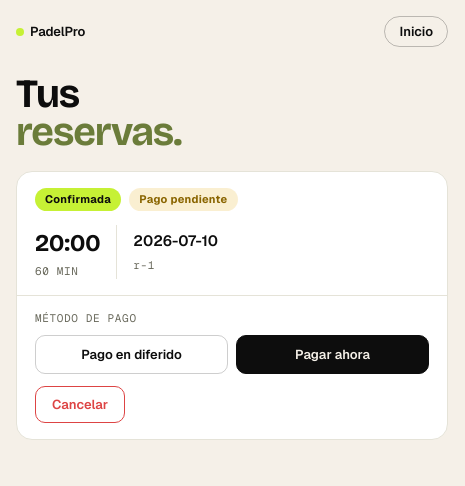
MisReservasPage — acciones (Grupo 5) › cancelar desde la lista (DELETE) refresca el estado a cancelada
Expected: the text "20:00" is shown, [35,224,100,260]
What coordinates should you click on to do the following:
click the button "Cancelar"
I would click on:
 (80, 404)
Its box is [35,386,125,422].
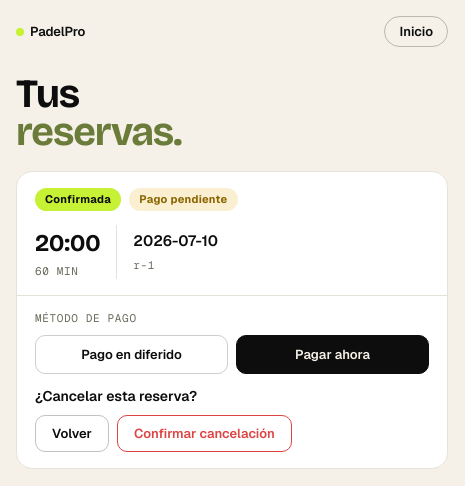
What coordinates should you click on to do the following:
click the button "Confirmar cancelación"
I would click on:
 (204, 433)
Its box is [117,414,292,452].
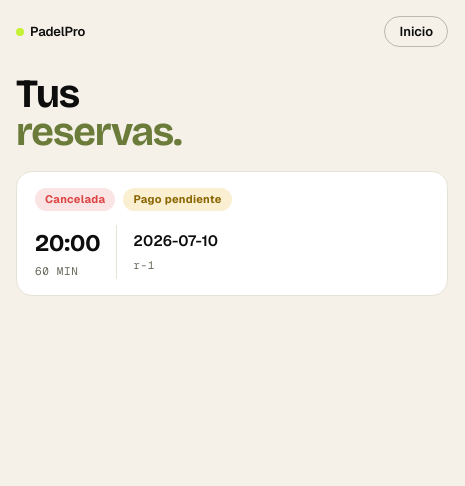
Result: the text "Cancelada" is shown at [35,188,115,210]
Result: the text "Cancelar" is gone
